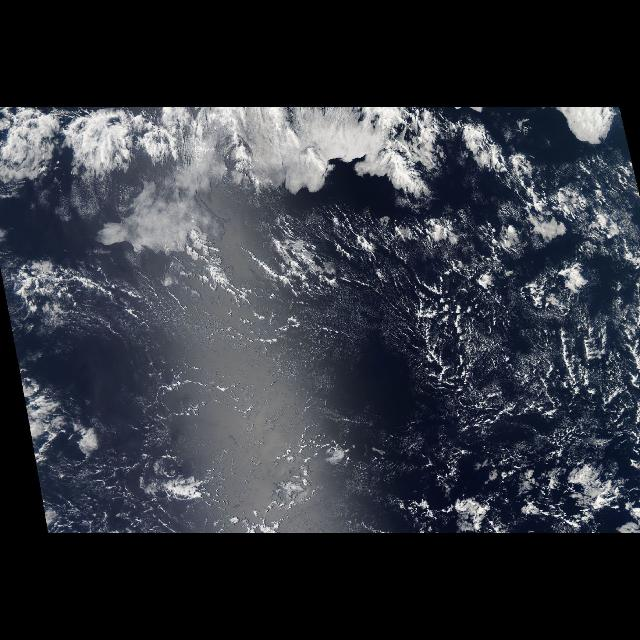Gravel: (426, 311, 636, 471)
Sugar: (97, 232, 419, 468)
